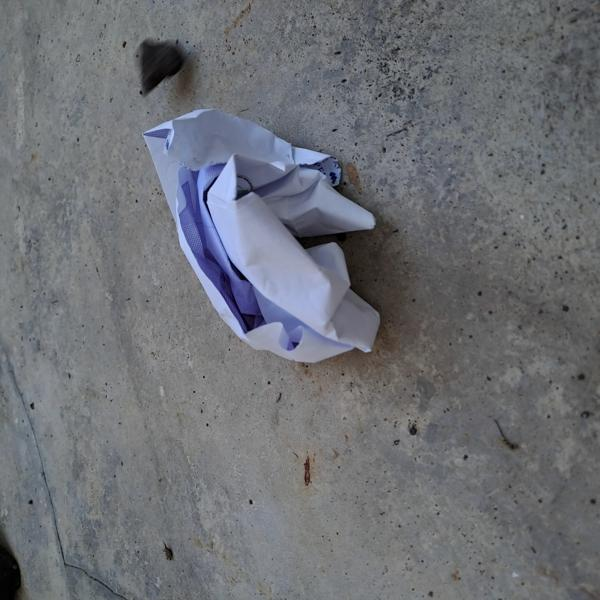Organik: (124, 73, 389, 381)
